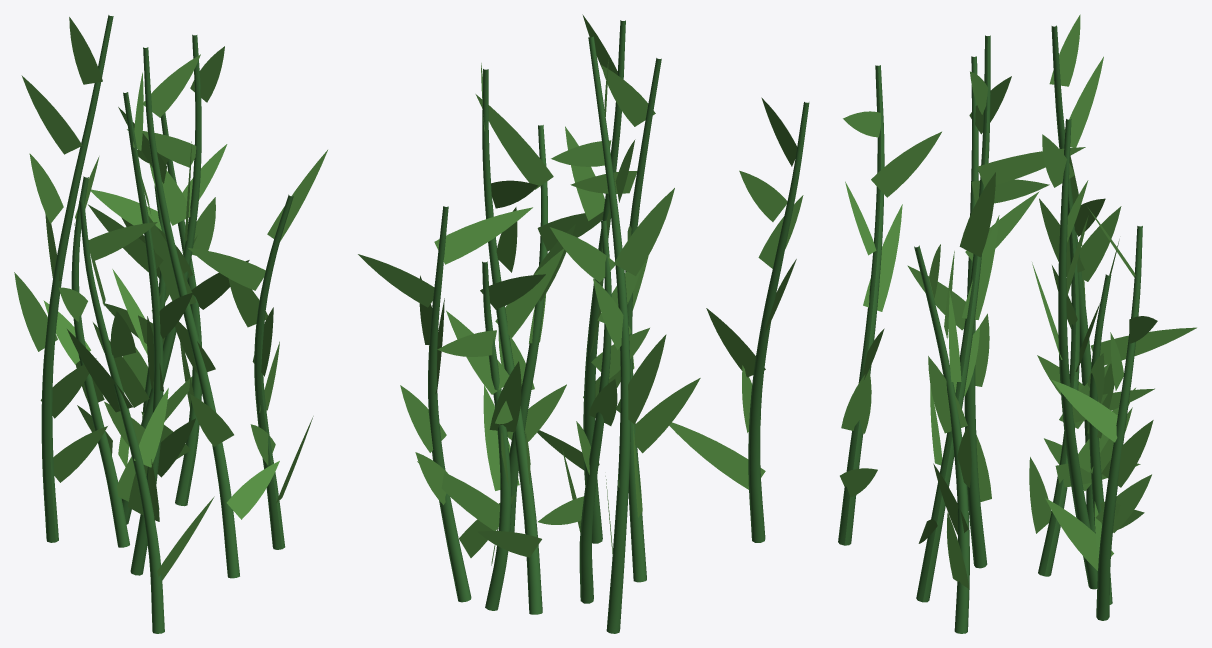
Rendered from kelp_forest.glb.
The picture shows the model from 3 angles, left to right: view 1: azimuth 30°, elevation 25°; view 2: azimuth 150°, elevation 25°; view 3: azimuth 270°, elevation 25°; orthographic projection. The views are drawn at different scales.
Parts seen in each view (by area): view 1: Kelp forest; view 2: Kelp forest; view 3: Kelp forest.
Part boxes in pixels (x1=…): Kelp forest: x1=14, y1=15, x2=327, y2=633; Kelp forest: x1=358, y1=14, x2=809, y2=633; Kelp forest: x1=838, y1=14, x2=1196, y2=633.
Size of the model in its own units: 3.05 by 5.42 by 3.24.
